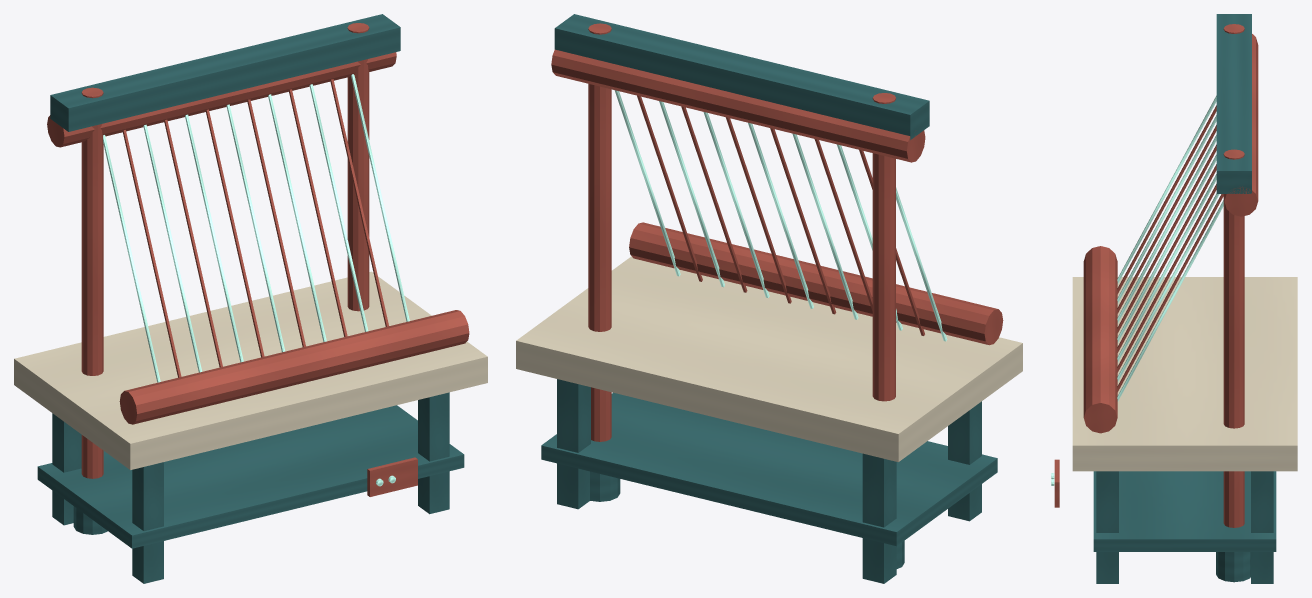
Rendered from atlas100-s033-a02.glb.
The picture shows the model from 3 angles, left to right: view 1: azimuth 30°, elevation 25°; view 2: azimuth 150°, elevation 25°; view 3: azimuth 270°, elevation 25°; orthographic projection. The views are drawn at different scales.
Visible parts, largest first — view 1: atlas100-s033-a02:part-004, atlas100-s033-a02:part-005, atlas100-s033-a02:part-010, atlas100-s033-a02:part-024, atlas100-s033-a02:part-006, atlas100-s033-a02:part-008, atlas100-s033-a02:part-025, atlas100-s033-a02:part-003, atlas100-s033-a02:part-001, atlas100-s033-a02:part-000, atlas100-s033-a02:part-026, atlas100-s033-a02:part-017 (+12 smaller); view 2: atlas100-s033-a02:part-004, atlas100-s033-a02:part-005, atlas100-s033-a02:part-010, atlas100-s033-a02:part-024, atlas100-s033-a02:part-025, atlas100-s033-a02:part-008, atlas100-s033-a02:part-006, atlas100-s033-a02:part-000, atlas100-s033-a02:part-002, atlas100-s033-a02:part-001, atlas100-s033-a02:part-020, atlas100-s033-a02:part-023 (+10 smaller); view 3: atlas100-s033-a02:part-004, atlas100-s033-a02:part-005, atlas100-s033-a02:part-024, atlas100-s033-a02:part-010, atlas100-s033-a02:part-008, atlas100-s033-a02:part-002, atlas100-s033-a02:part-003, atlas100-s033-a02:part-025, atlas100-s033-a02:part-009, atlas100-s033-a02:part-023, atlas100-s033-a02:part-022, atlas100-s033-a02:part-021 (+10 smaller).
Boxes of the visible parts, left/top/right/bottom form: atlas100-s033-a02:part-004: left=14, top=271, right=487, bottom=469; atlas100-s033-a02:part-005: left=37, top=405, right=464, bottom=548; atlas100-s033-a02:part-010: left=50, top=14, right=400, bottom=131; atlas100-s033-a02:part-024: left=119, top=310, right=469, bottom=424; atlas100-s033-a02:part-006: left=81, top=87, right=103, bottom=478; atlas100-s033-a02:part-008: left=347, top=23, right=369, bottom=311; atlas100-s033-a02:part-025: left=47, top=52, right=396, bottom=147; atlas100-s033-a02:part-003: left=418, top=392, right=449, bottom=514; atlas100-s033-a02:part-001: left=132, top=462, right=163, bottom=583; atlas100-s033-a02:part-000: left=52, top=413, right=81, bottom=525; atlas100-s033-a02:part-026: left=367, top=457, right=417, bottom=496; atlas100-s033-a02:part-017: left=226, top=104, right=285, bottom=352; atlas100-s033-a02:part-004: left=516, top=256, right=1022, bottom=462; atlas100-s033-a02:part-005: left=541, top=392, right=997, bottom=546; atlas100-s033-a02:part-010: left=554, top=14, right=929, bottom=139; atlas100-s033-a02:part-024: left=629, top=222, right=1003, bottom=345; atlas100-s033-a02:part-025: left=551, top=49, right=925, bottom=162; atlas100-s033-a02:part-008: left=588, top=23, right=611, bottom=441; atlas100-s033-a02:part-006: left=872, top=93, right=895, bottom=401; atlas100-s033-a02:part-000: left=862, top=453, right=896, bottom=583; atlas100-s033-a02:part-002: left=557, top=379, right=590, bottom=509; atlas100-s033-a02:part-001: left=948, top=401, right=981, bottom=521; atlas100-s033-a02:part-020: left=681, top=106, right=747, bottom=292; atlas100-s033-a02:part-023: left=614, top=90, right=680, bottom=276; atlas100-s033-a02:part-004: left=1072, top=277, right=1297, bottom=471; atlas100-s033-a02:part-005: left=1093, top=471, right=1276, bottom=551; atlas100-s033-a02:part-024: left=1083, top=246, right=1117, bottom=433; atlas100-s033-a02:part-010: left=1216, top=14, right=1251, bottom=193; atlas100-s033-a02:part-008: left=1223, top=149, right=1244, bottom=527; atlas100-s033-a02:part-002: left=1251, top=471, right=1273, bottom=583; atlas100-s033-a02:part-003: left=1096, top=471, right=1118, bottom=583; atlas100-s033-a02:part-025: left=1224, top=34, right=1258, bottom=216; atlas100-s033-a02:part-009: left=1216, top=552, right=1250, bottom=582; atlas100-s033-a02:part-023: left=1117, top=200, right=1223, bottom=401; atlas100-s033-a02:part-022: left=1117, top=194, right=1223, bottom=391; atlas100-s033-a02:part-021: left=1117, top=193, right=1219, bottom=381.
Size of the model in its own units: 2.84 by 3.3 by 1.75.
Materials: 4 (4 with a texture image).
